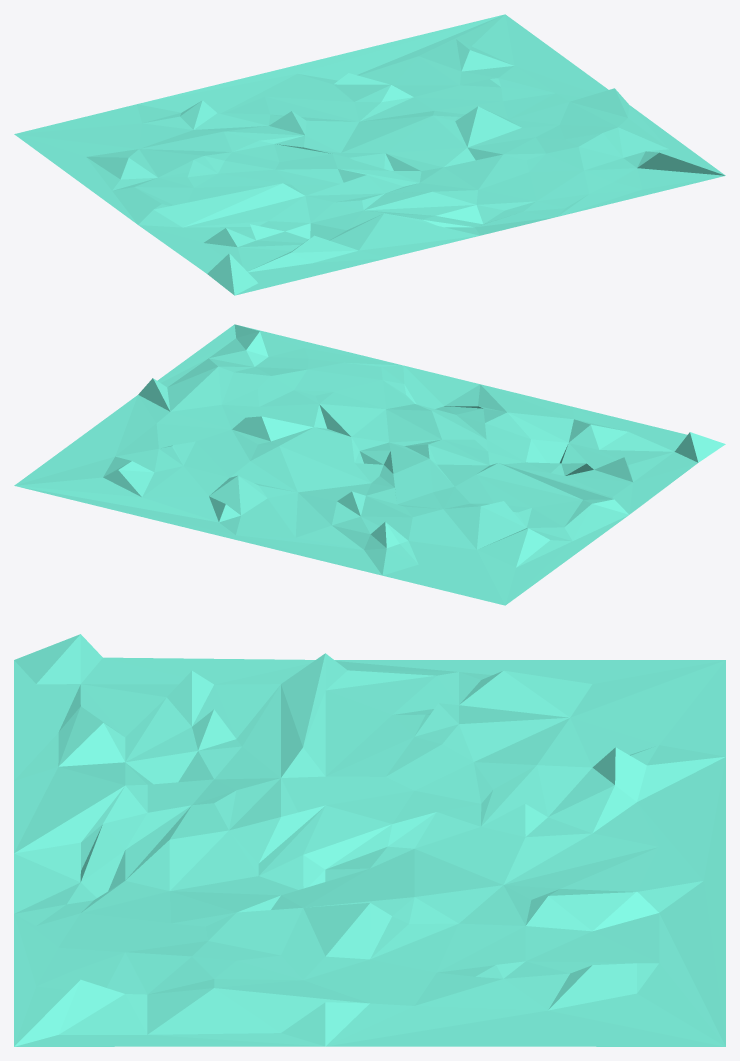
The model's file is icearea.glb.
3 views of the same model, one above another, from view 1: azimuth 30°, elevation 25°; view 2: azimuth 150°, elevation 25°; view 3: azimuth 270°, elevation 25° (orthographic). The views are drawn at different scales.
Parts seen in each view (by area): view 1: Plane002; view 2: Plane002; view 3: Plane002.
Boxes of the visible parts, x1,y1,x2,y2 form: Plane002: [14, 14, 725, 295]; Plane002: [14, 324, 725, 605]; Plane002: [14, 634, 725, 1046].
Size of the model in its own units: 3779468 by 353274 by 2939398.
